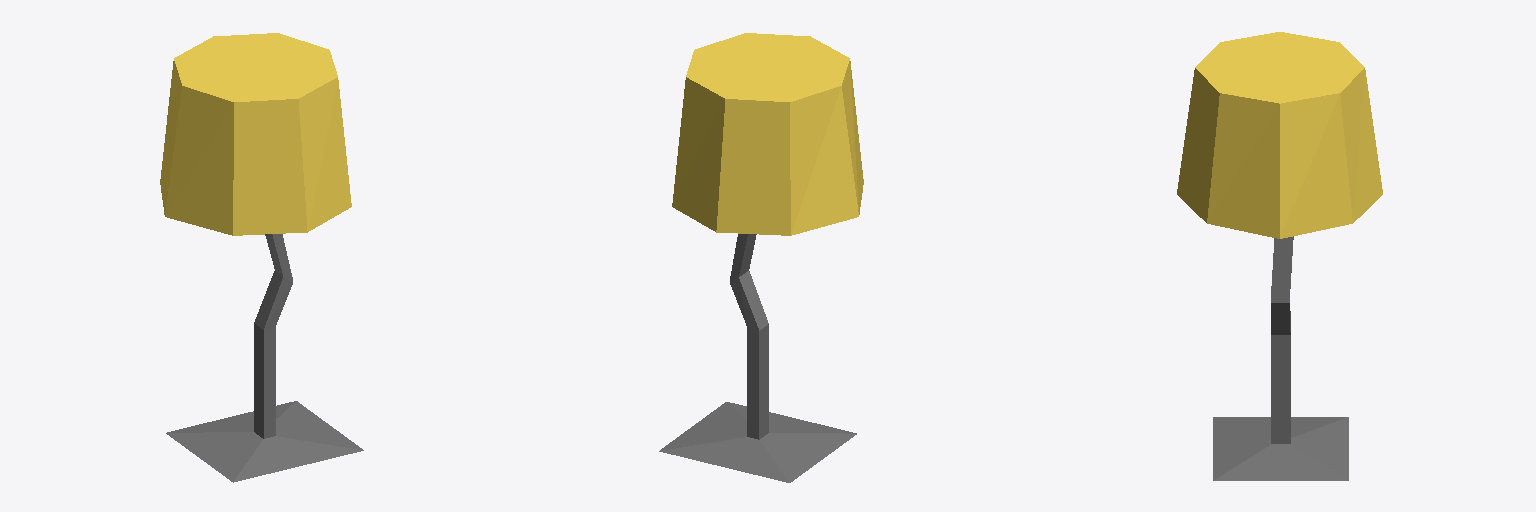
Rendered from Lamparafinal.obj.
The picture shows the model from 3 angles: view 1: azimuth 30°, elevation 25°; view 2: azimuth 150°, elevation 25°; view 3: azimuth 270°, elevation 25°; orthographic projection.
Parts seen in each view (by area): view 1: pCylinder2, lamp2:bed_table lamp2:lamp2 lamp2:lampp1 pCylinder2; view 2: pCylinder2, lamp2:bed_table lamp2:lamp2 lamp2:lampp1 pCylinder2; view 3: pCylinder2, lamp2:bed_table lamp2:lamp2 lamp2:lampp1 pCylinder2.
Part boxes in pixels (left/top/right/bottom): pCylinder2: left=160, top=33, right=351, bottom=235; lamp2:bed_table lamp2:lamp2 lamp2:lampp1 pCylinder2: left=166, top=234, right=363, bottom=482; pCylinder2: left=672, top=33, right=863, bottom=235; lamp2:bed_table lamp2:lamp2 lamp2:lampp1 pCylinder2: left=659, top=234, right=856, bottom=482; pCylinder2: left=1177, top=32, right=1382, bottom=238; lamp2:bed_table lamp2:lamp2 lamp2:lampp1 pCylinder2: left=1213, top=236, right=1348, bottom=480.
Size of the model in its own units: 4.41 by 8.7 by 4.32.